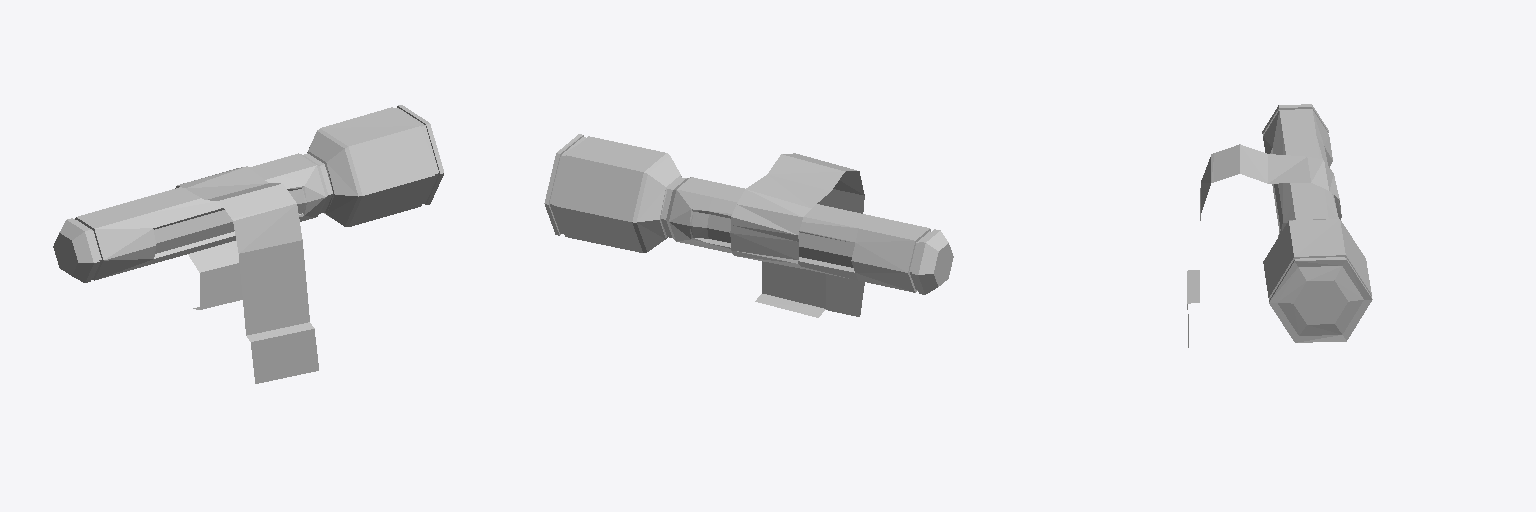
File: flashlight_ak.obj
3 views of the same model, side by side, from view 1: azimuth 30°, elevation 25°; view 2: azimuth 150°, elevation 25°; view 3: azimuth 270°, elevation 25° (orthographic).
Visible parts, largest first — view 1: attachmentModel; view 2: attachmentModel; view 3: attachmentModel.
Part boxes in pixels (x1,y1,x2,y2): attachmentModel: (53,105,443,383); attachmentModel: (544,134,953,317); attachmentModel: (1187,104,1372,347).
Size of the model in its own units: 3.41 by 1.51 by 1.48.